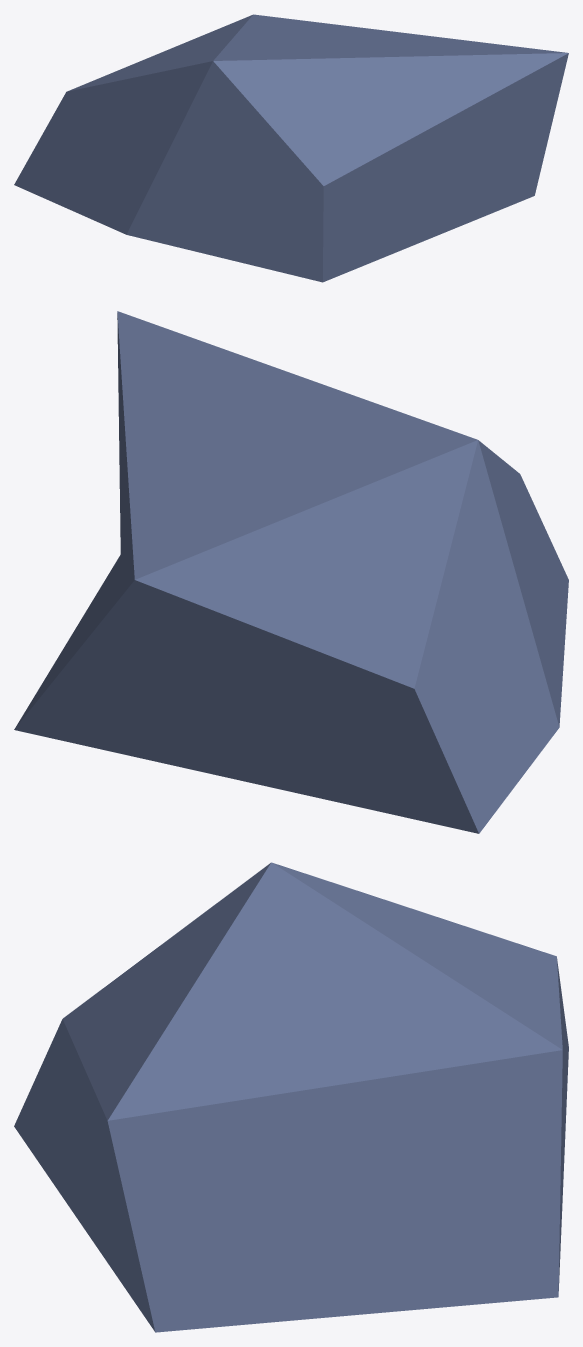
The model's file is piedra_3.fbx.
The picture shows the model from 3 angles, top to bottom: view 1: azimuth 30°, elevation 25°; view 2: azimuth 150°, elevation 25°; view 3: azimuth 270°, elevation 25°; orthographic projection. The views are drawn at different scales.
Visible parts, largest first — view 1: p_piedra_grande; view 2: p_piedra_grande; view 3: p_piedra_grande.
Part boxes in pixels (left/top/right/bottom): p_piedra_grande: left=14, top=14, right=568, bottom=282; p_piedra_grande: left=14, top=311, right=568, bottom=833; p_piedra_grande: left=14, top=862, right=568, bottom=1332.
Size of the model in its own units: 123 by 53.56 by 98.66.
